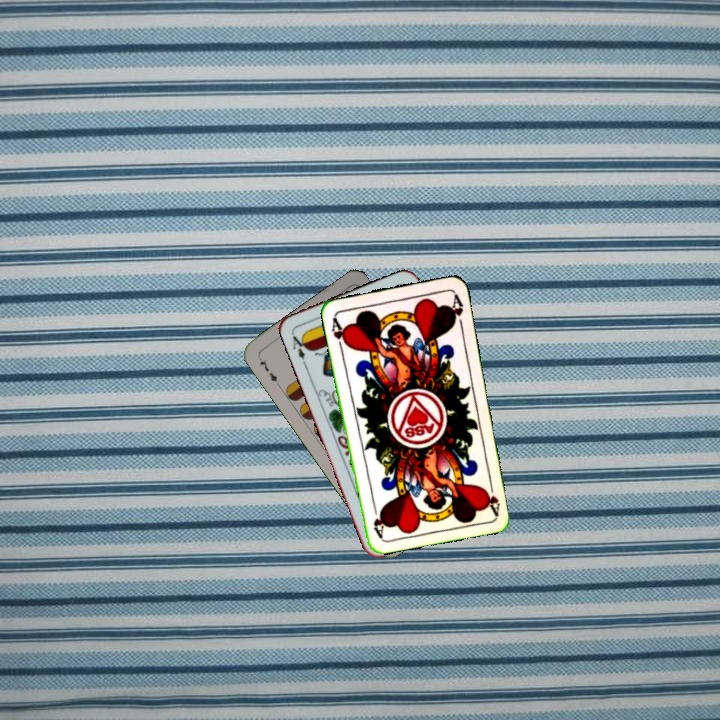E7: (254, 353, 282, 389)
EA: (287, 328, 311, 368)
HA: (327, 313, 351, 353), (480, 476, 503, 516)
